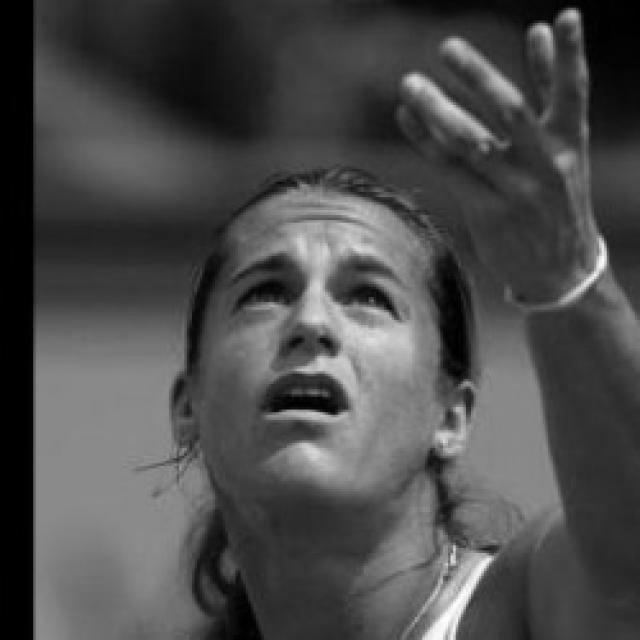real: (194, 184, 442, 508), (216, 260, 420, 332)
